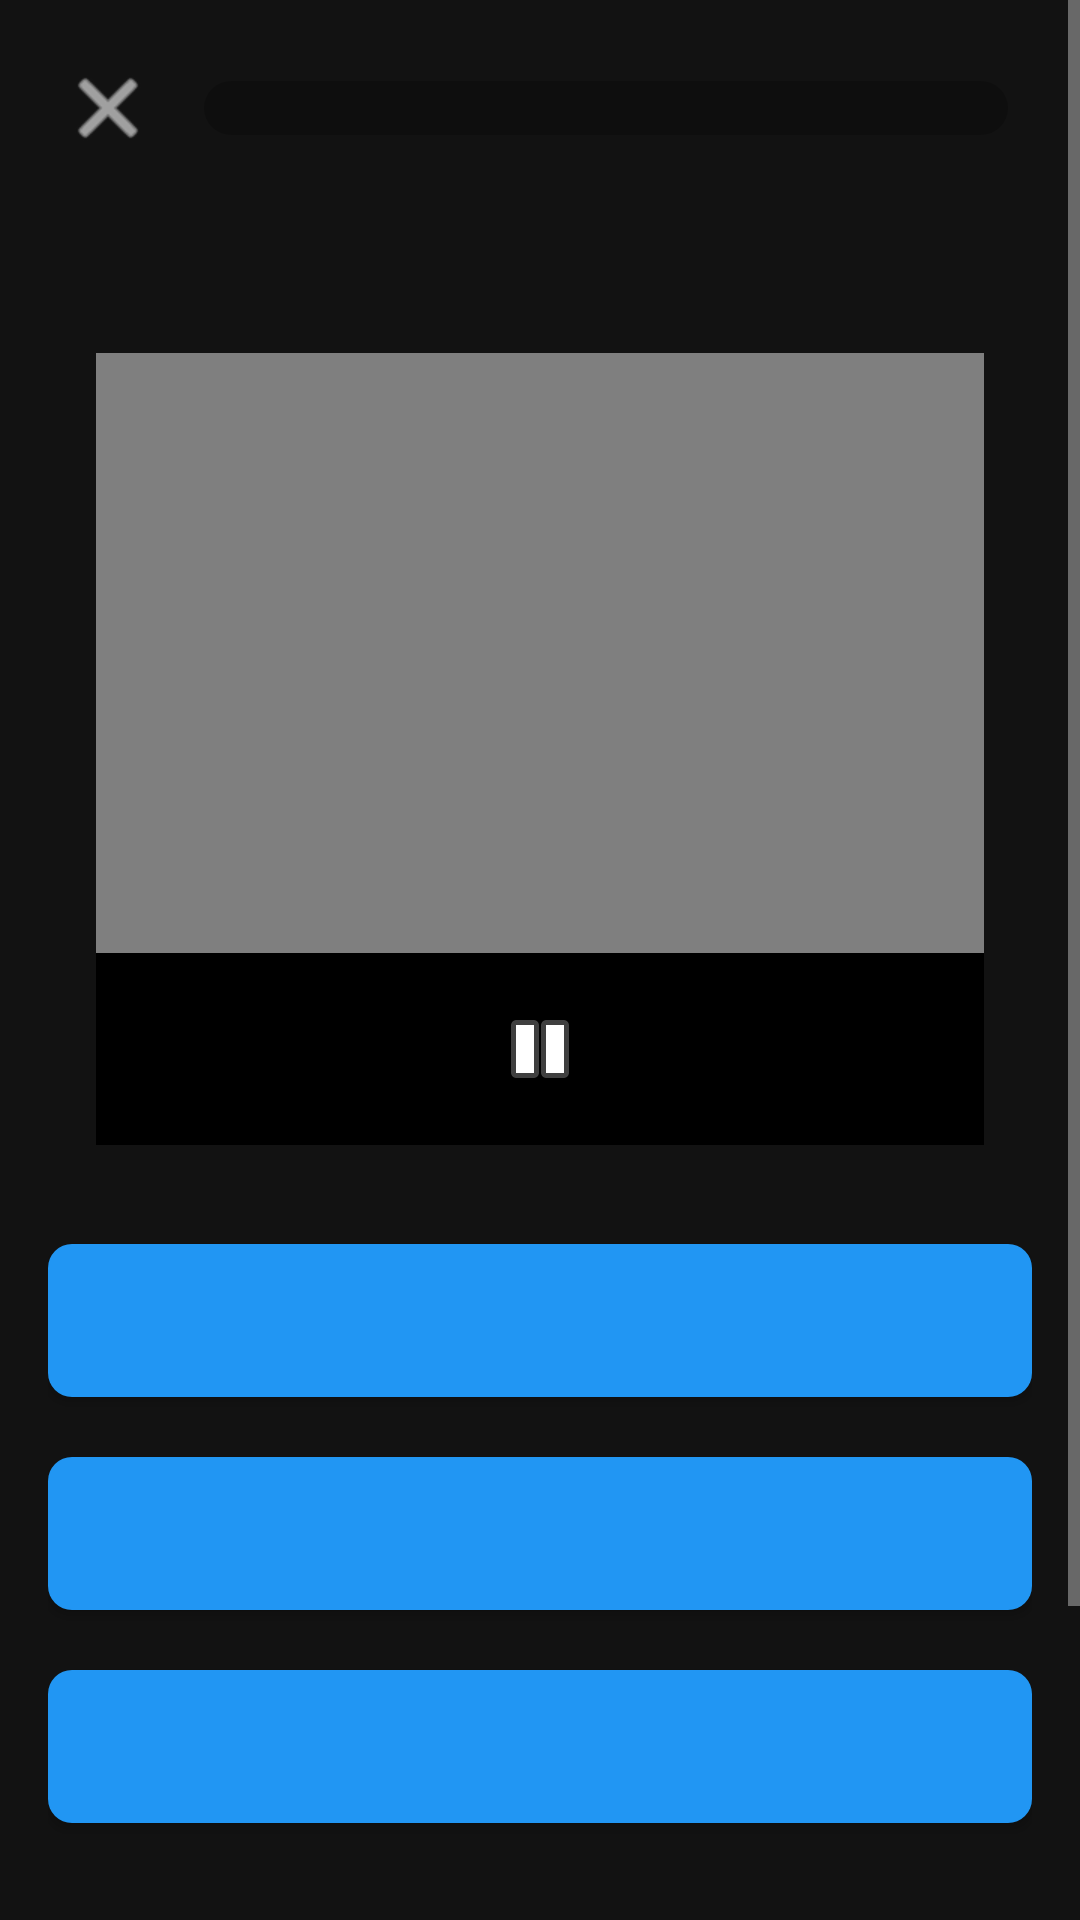

Icon click points for this 1080px×1920px phone screenshot, format (x,y):
Play/Pause: (540,1049)
Zavřít lekci: (108,108)
